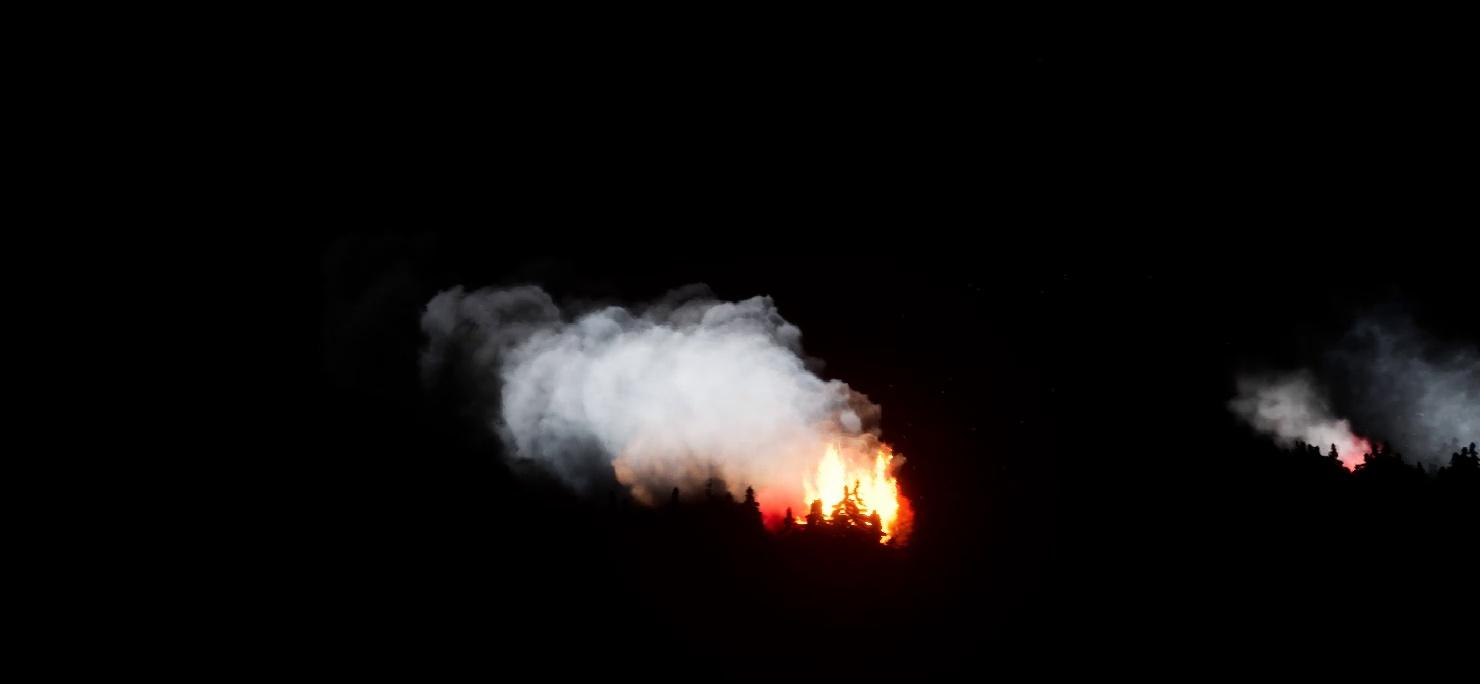fire: (785, 440, 913, 547), (1331, 442, 1380, 470)
smoke: (418, 281, 867, 509), (1221, 322, 1479, 465)
